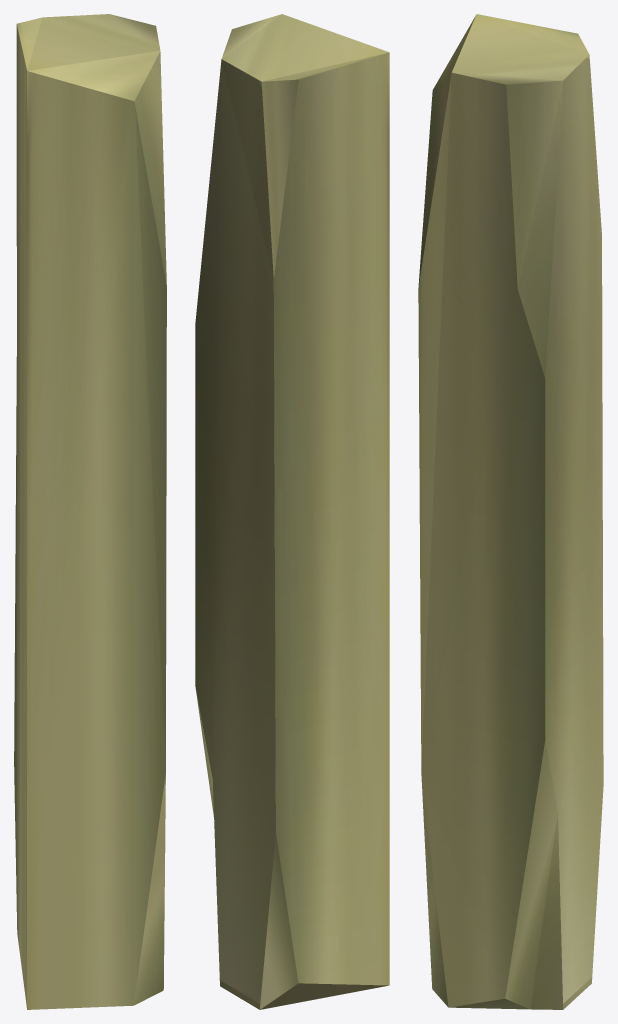
The model's file is TheOctagon_Floor_1_Col_3.gltf.
3 views of the same model, side by side, from view 1: azimuth 30°, elevation 25°; view 2: azimuth 150°, elevation 25°; view 3: azimuth 270°, elevation 25° (orthographic).
Visible parts, largest first — view 1: TheOctagon_Floor_1_Col_3; view 2: TheOctagon_Floor_1_Col_3; view 3: TheOctagon_Floor_1_Col_3.
Boxes of the visible parts, left/top/right/bottom form: TheOctagon_Floor_1_Col_3: left=14, top=14, right=166, bottom=1009; TheOctagon_Floor_1_Col_3: left=195, top=14, right=389, bottom=1009; TheOctagon_Floor_1_Col_3: left=418, top=14, right=603, bottom=1009.
Size of the model in its own units: 2.6 by 14.45 by 2.6.
1 material, 1 textured.
